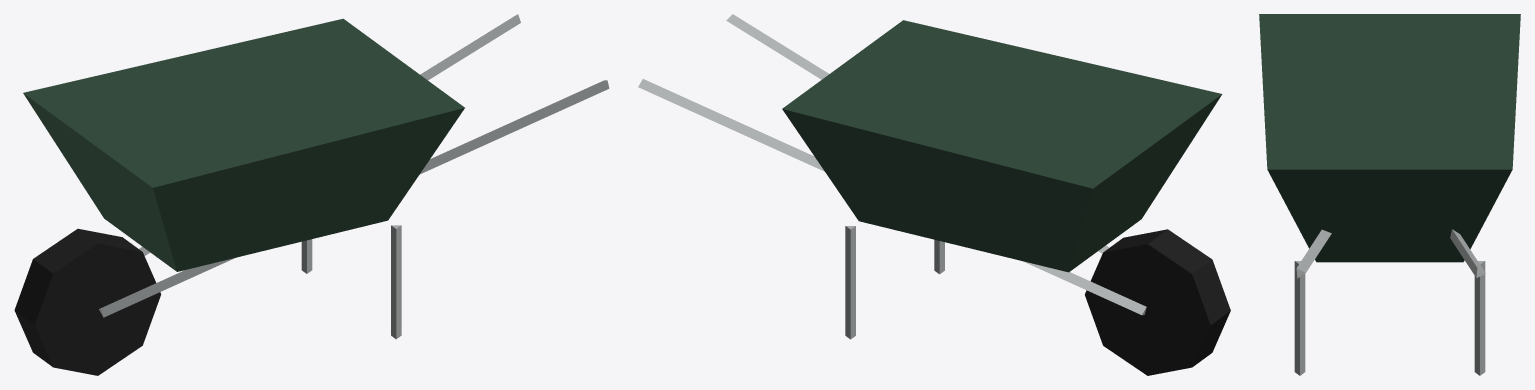
Rendered from wheelbarrow.glb.
3 renders of one model, left to right at view 1: azimuth 30°, elevation 25°; view 2: azimuth 150°, elevation 25°; view 3: azimuth 270°, elevation 25°, orthographic.
Visible parts, largest first — view 1: wheelbarrow; view 2: wheelbarrow; view 3: wheelbarrow.
Part boxes in pixels (x1,y1,x2,y2): wheelbarrow: [14, 14, 609, 375]; wheelbarrow: [638, 14, 1230, 375]; wheelbarrow: [1259, 14, 1520, 375].
Bounding box in the file's own units: 1.53 × 0.62 × 0.64.
Materials: 1 (1 with a texture image).
